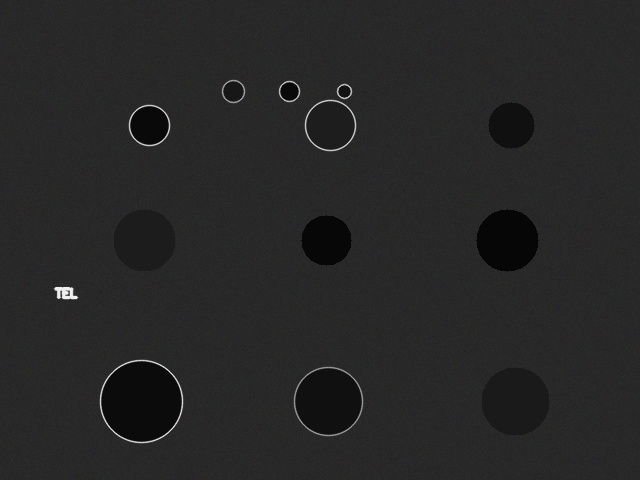hole: (100, 360, 182, 442), (294, 367, 362, 435), (481, 367, 549, 435), (113, 209, 175, 271), (476, 209, 538, 271), (305, 100, 355, 150), (301, 215, 351, 265), (488, 102, 534, 148), (129, 105, 169, 145), (222, 80, 244, 102), (279, 81, 299, 101), (337, 84, 351, 98)
